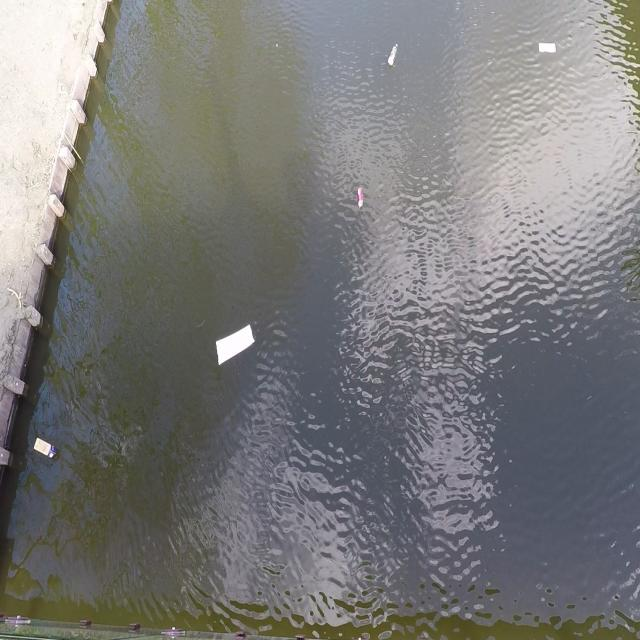Autre plastique: (215, 323, 258, 370)
Bouteille plastique: (382, 42, 401, 73)
Non plastique: (30, 433, 61, 469), (355, 185, 367, 211)
